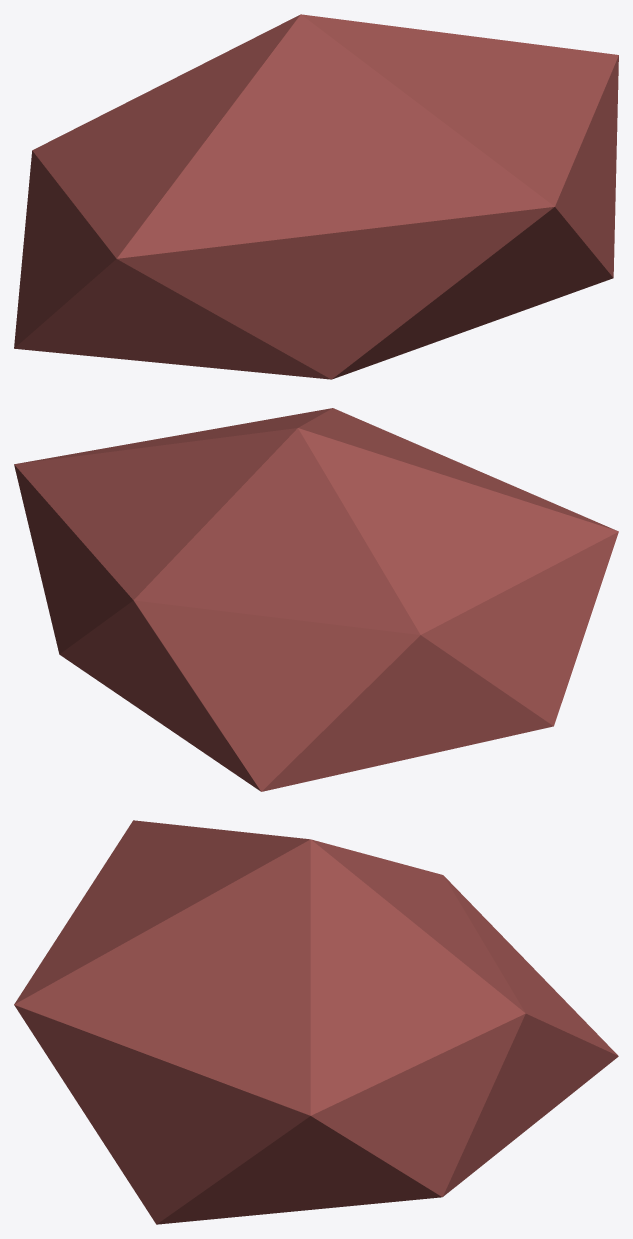
The model's file is rock_3.glb.
3 views of the same model, one above another, from view 1: azimuth 30°, elevation 25°; view 2: azimuth 150°, elevation 25°; view 3: azimuth 270°, elevation 25° (orthographic). The views are drawn at different scales.
Parts seen in each view (by area): view 1: rock_3; view 2: rock_3; view 3: rock_3.
Part boxes in pixels (left/top/right/bottom): rock_3: left=14, top=14, right=618, bottom=379; rock_3: left=14, top=408, right=618, bottom=791; rock_3: left=14, top=820, right=618, bottom=1224.
Size of the model in its own units: 2.22 by 0.9425 by 1.9.
